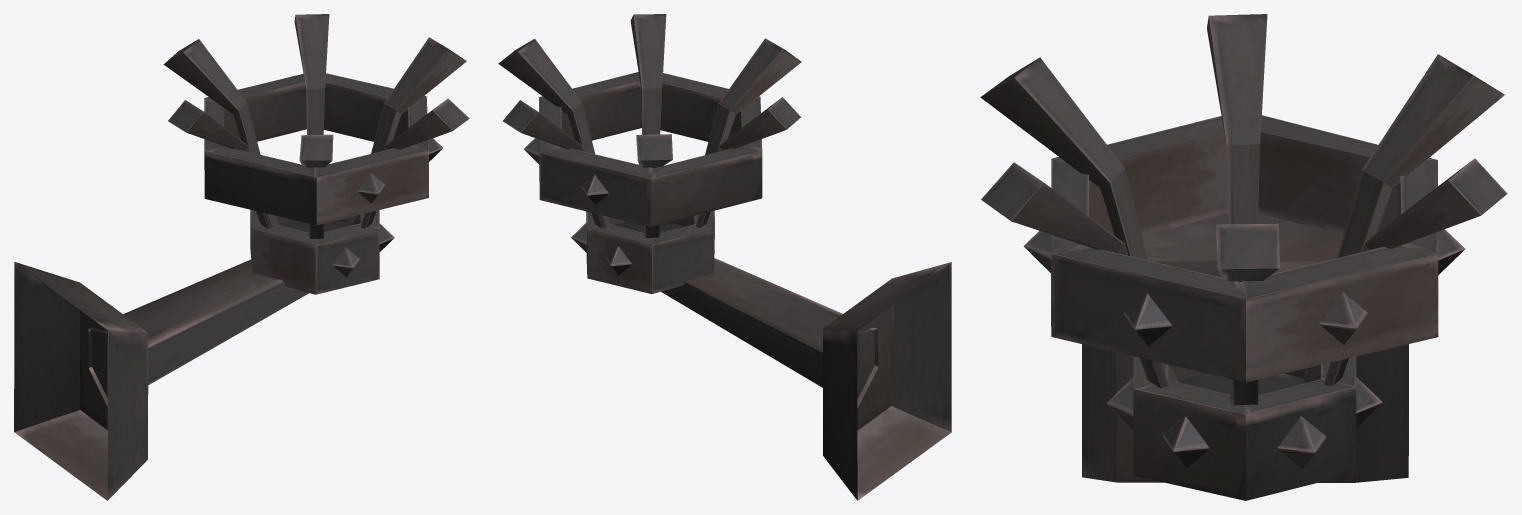
File: A_CR_GEN_Brazier_02.fbx
3 renders of one model, left to right at view 1: azimuth 30°, elevation 25°; view 2: azimuth 150°, elevation 25°; view 3: azimuth 270°, elevation 25°, orthographic. The views are drawn at different scales.
Parts seen in each view (by area): view 1: A_CR_GEN_Brazier_02; view 2: A_CR_GEN_Brazier_02; view 3: A_CR_GEN_Brazier_02.
Part boxes in pixels (x1,y1,x2,y2): A_CR_GEN_Brazier_02: (14, 14, 469, 500); A_CR_GEN_Brazier_02: (498, 14, 951, 500); A_CR_GEN_Brazier_02: (980, 14, 1507, 500).
Size of the model in its own units: 139 by 110 by 91.69.
1 material, 1 textured.
